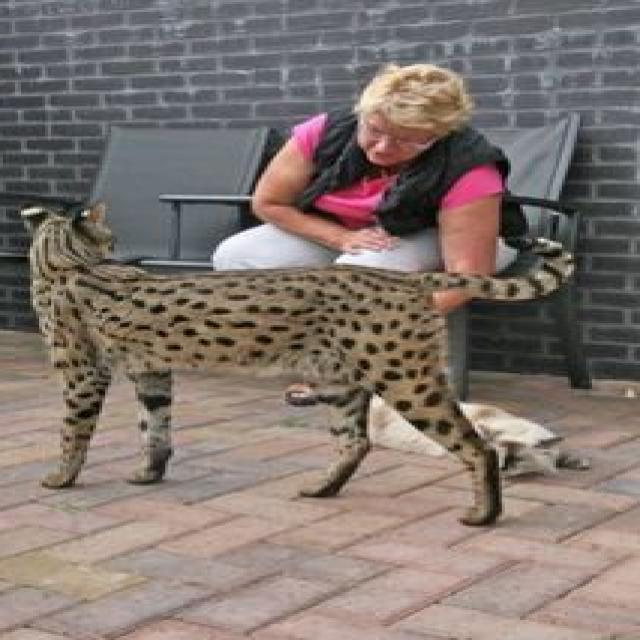Savannah: (8, 197, 580, 532)
